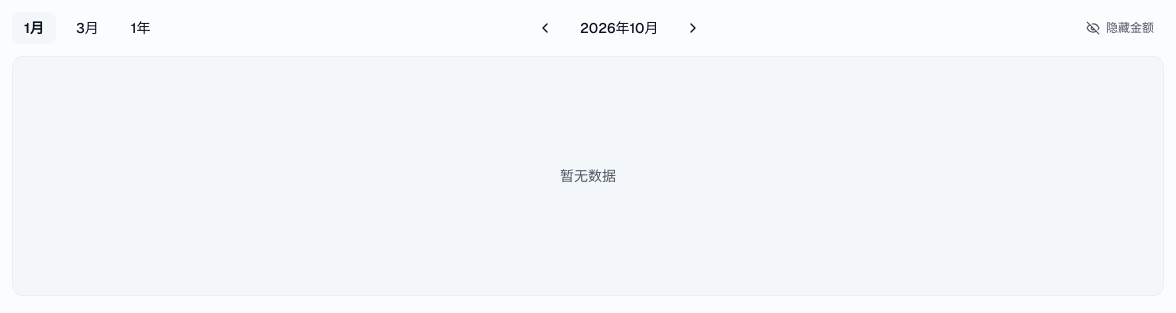
Test: DailyTrendChart — 组件渲染 › 再次点击隐藏金额恢复"隐藏金额"文字
Click the button "隐藏金额": (1120, 28) [1076,16,1164,40]
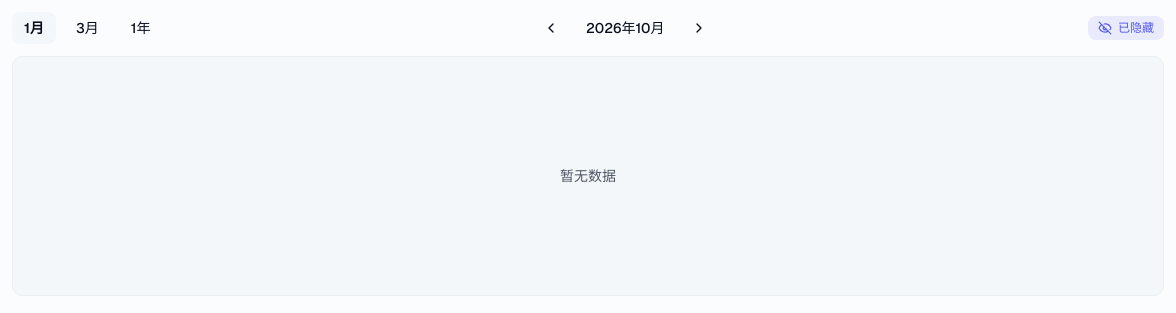
Click the button "已隐藏": (1126, 28) [1088,16,1164,40]
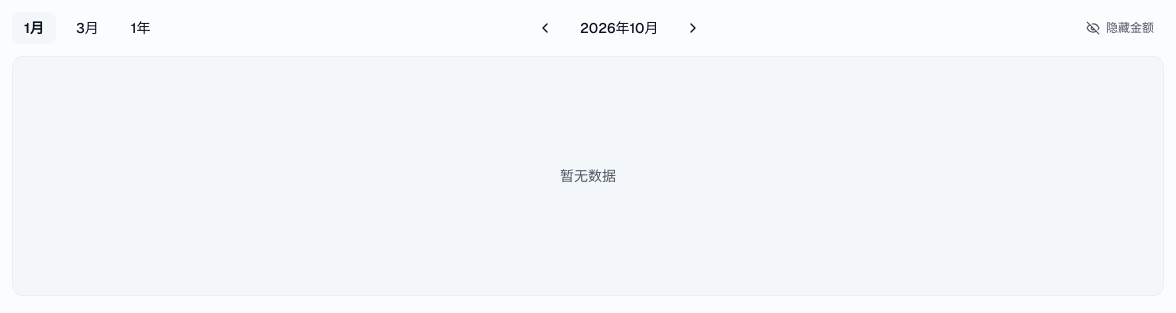
Check: the button "隐藏金额" is shown, box [1076,16,1164,40]
